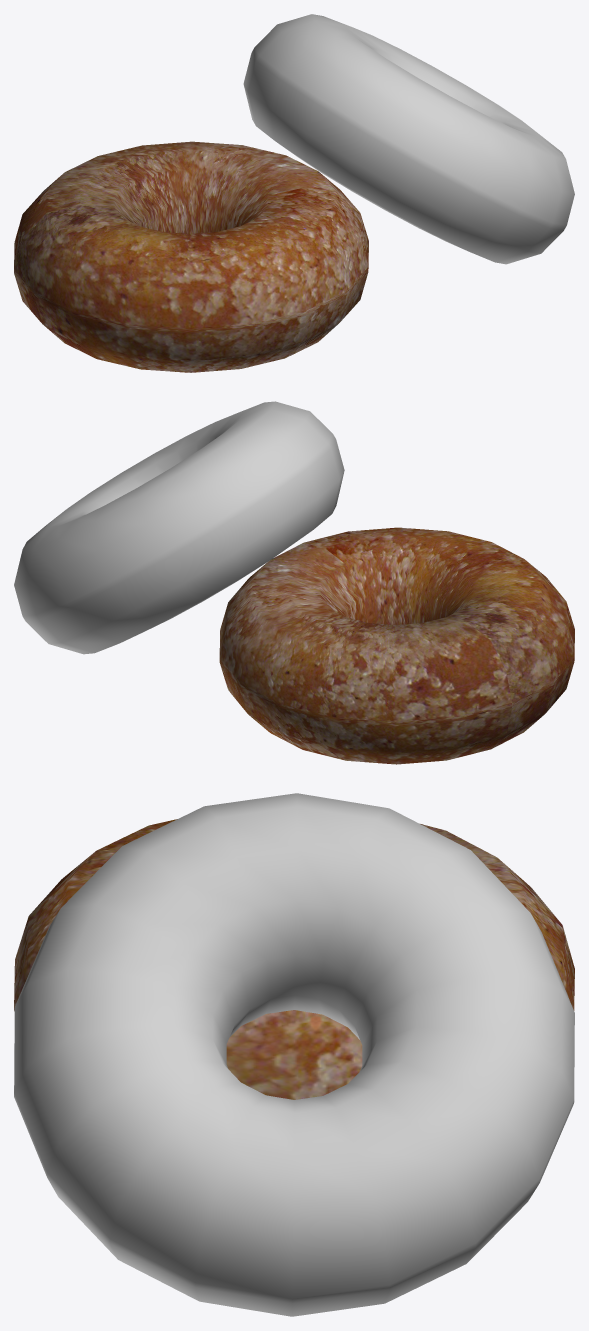
The model's file is Pastry.FBX.
3 renders of one model, top to bottom at view 1: azimuth 30°, elevation 25°; view 2: azimuth 150°, elevation 25°; view 3: azimuth 270°, elevation 25°, orthographic. The views are drawn at different scales.
Visible parts, largest first — view 1: cake 1, cake 2; view 2: cake 1, cake 2; view 3: cake 2, cake 1.
Boxes of the visible parts, x1,y1,x2,y2 form: cake 1: [14, 141, 368, 372]; cake 2: [243, 14, 574, 264]; cake 1: [219, 527, 574, 764]; cake 2: [14, 401, 344, 654]; cake 2: [14, 793, 574, 1316]; cake 1: [14, 819, 574, 1099].
Size of the model in its own units: 15.34 by 7.06 by 9.21.
